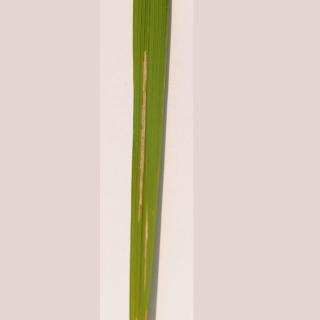Hawar-Daun: (131, 53, 166, 306)
